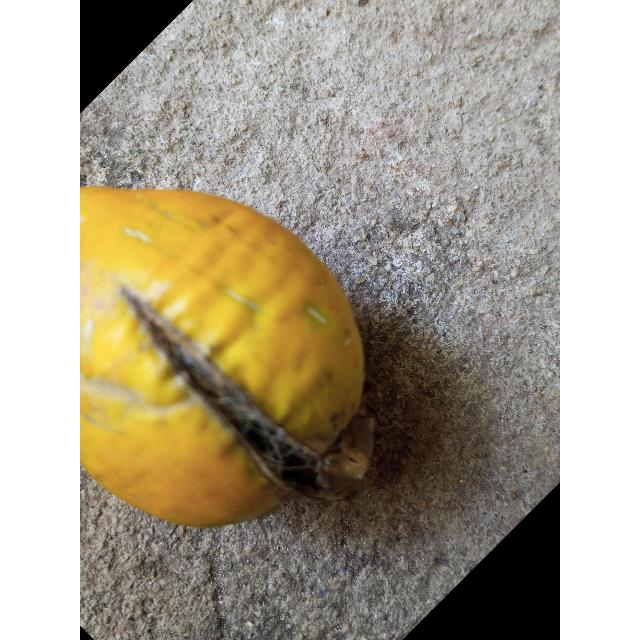damaged: (80, 187, 374, 527)
